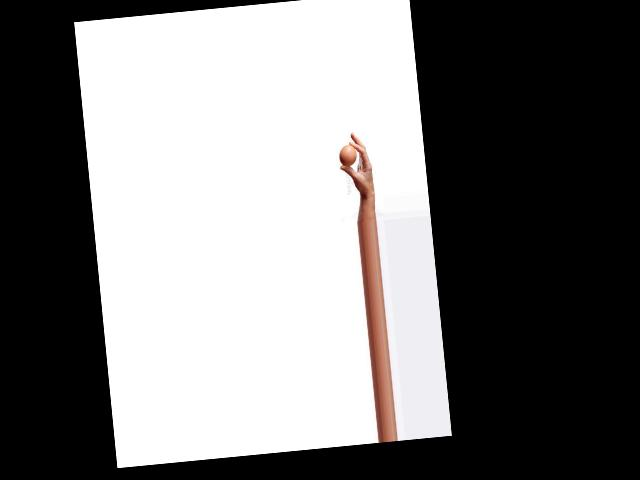egg: (338, 144, 357, 167)
